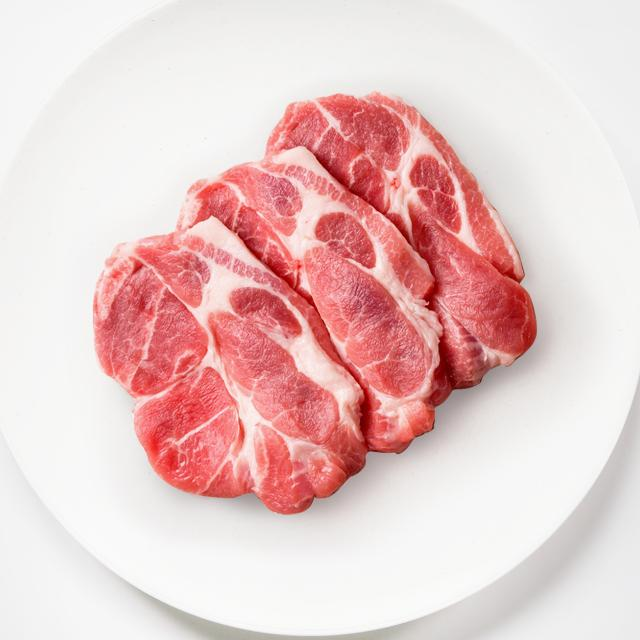beef: (90, 216, 372, 516), (178, 144, 441, 456), (266, 90, 536, 379)
